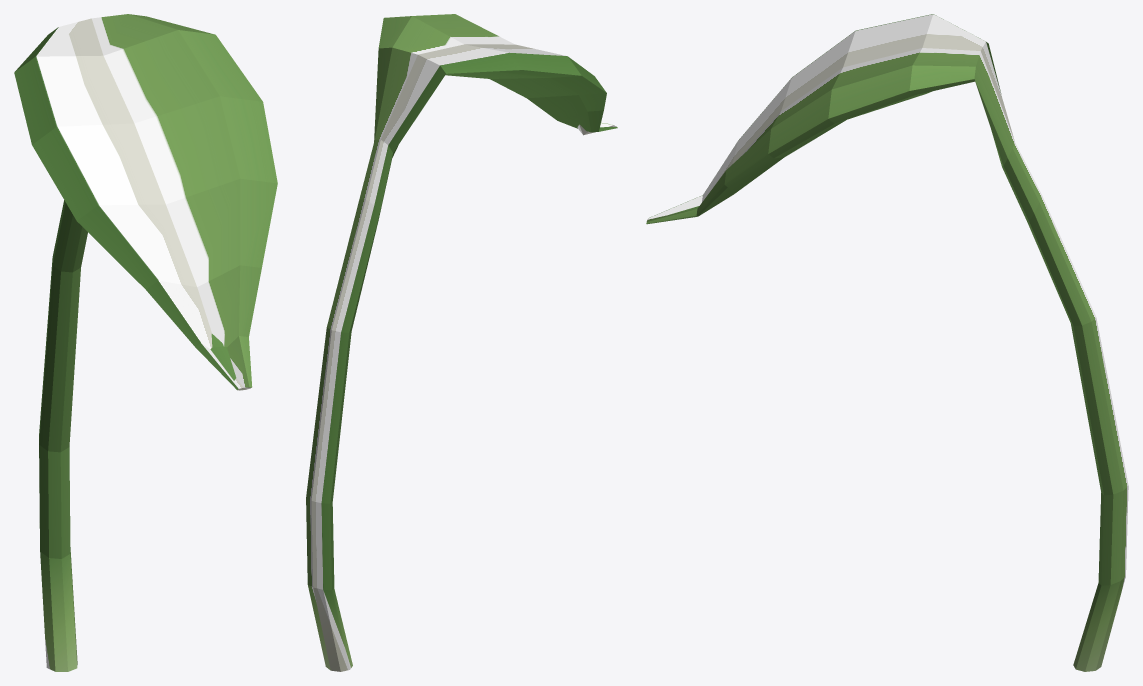
The model's file is variegatedMonstera3.fbx.
3 views of the same model, side by side, from view 1: azimuth 30°, elevation 25°; view 2: azimuth 150°, elevation 25°; view 3: azimuth 270°, elevation 25° (orthographic). The views are drawn at different scales.
Visible parts, largest first — view 1: monsteras.005; view 2: monsteras.005; view 3: monsteras.005.
Part boxes in pixels (x1,y1,x2,y2): monsteras.005: (14, 14, 277, 671); monsteras.005: (306, 14, 617, 671); monsteras.005: (646, 14, 1128, 671).
Bounding box in the file's own units: 328 × 1048 × 755.
